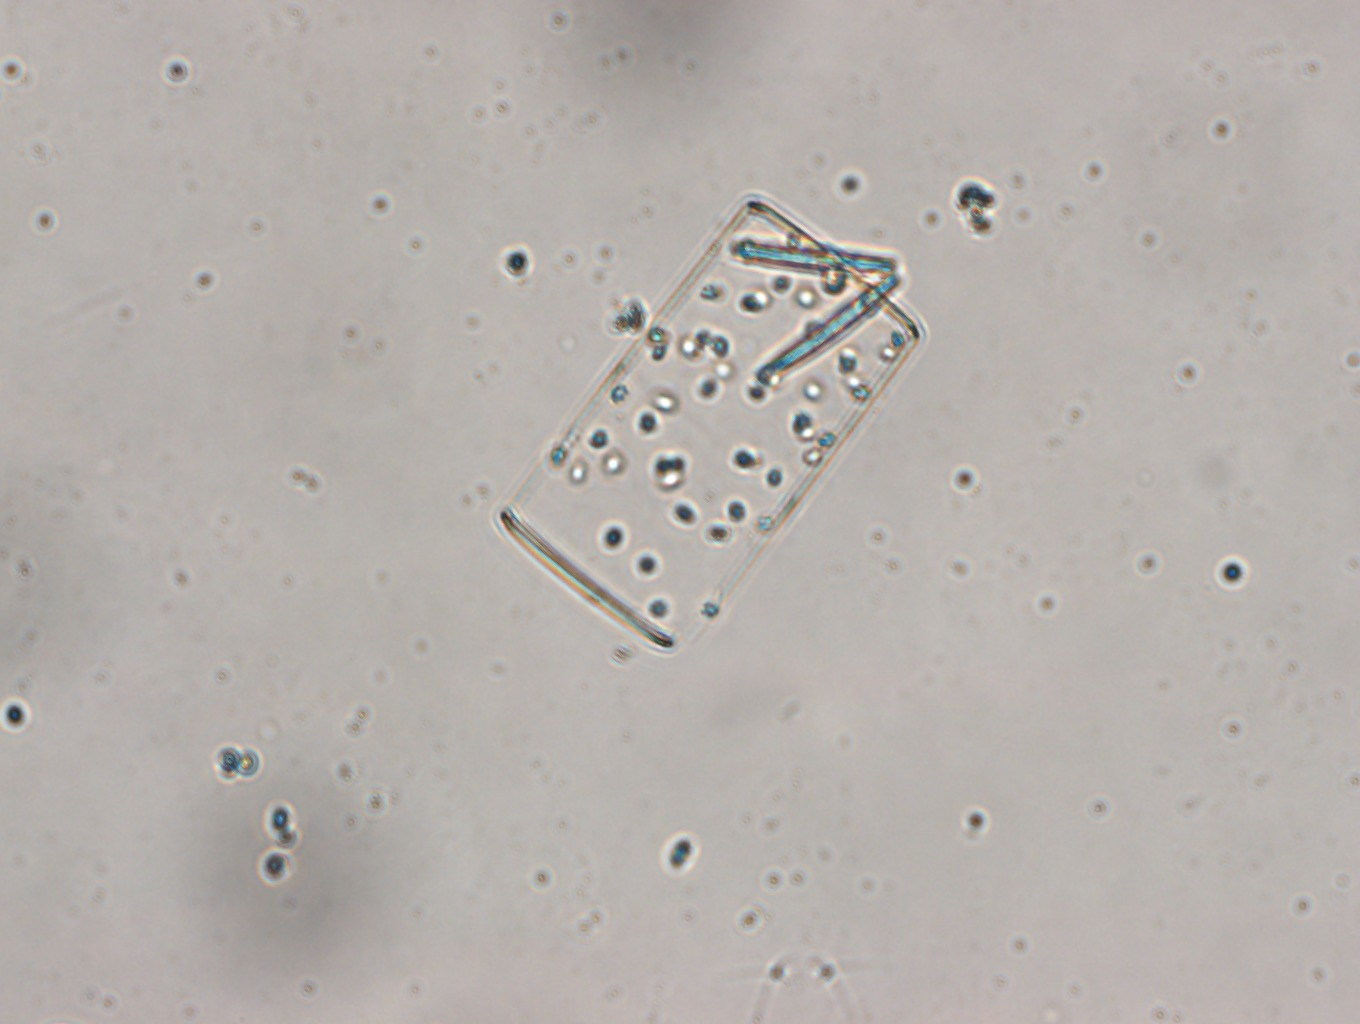guinardia flaccida: (492, 191, 928, 658)
